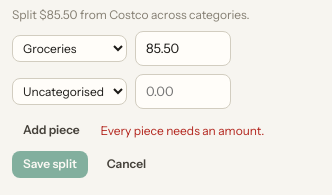
Test: SplitEditor › says what is left to assign, or how much too much
Replace the text in the field named "Amount for piece 1" with "60" at (183, 49), box [135,31,231,66]
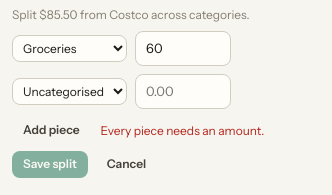
Type "20" into the field with placeholder "0.00" at (183, 92), box [135,74,231,109]
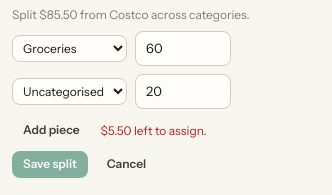
Check: the text "$5.50 left to assign." is shown, box [101,122,207,139]
Replace the text in the field named "Amount for piece 2" with "30" at (183, 92), box [135,74,231,109]
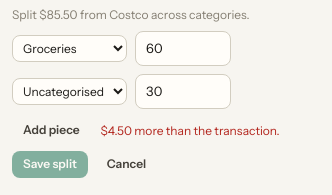
Check: the text "$4.50 more than the transaction." is shown, box [101,122,280,139]
